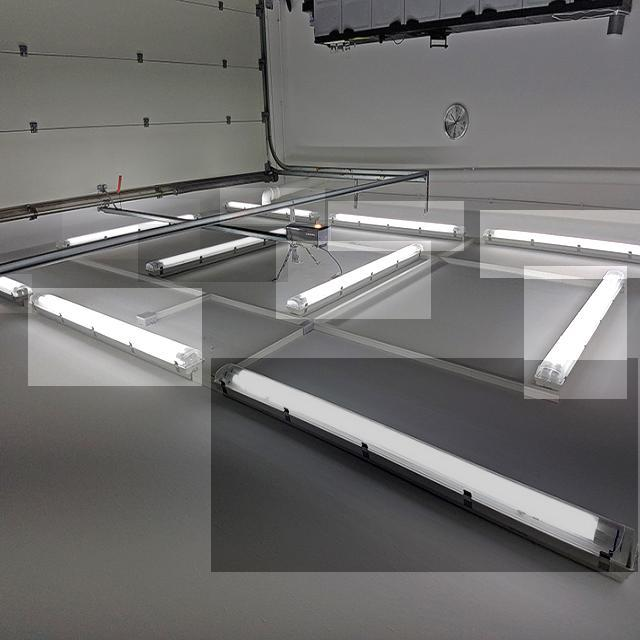light: (208, 368, 640, 568), (31, 292, 202, 373), (532, 266, 626, 388), (285, 240, 423, 316), (481, 227, 639, 258), (331, 212, 465, 240)
